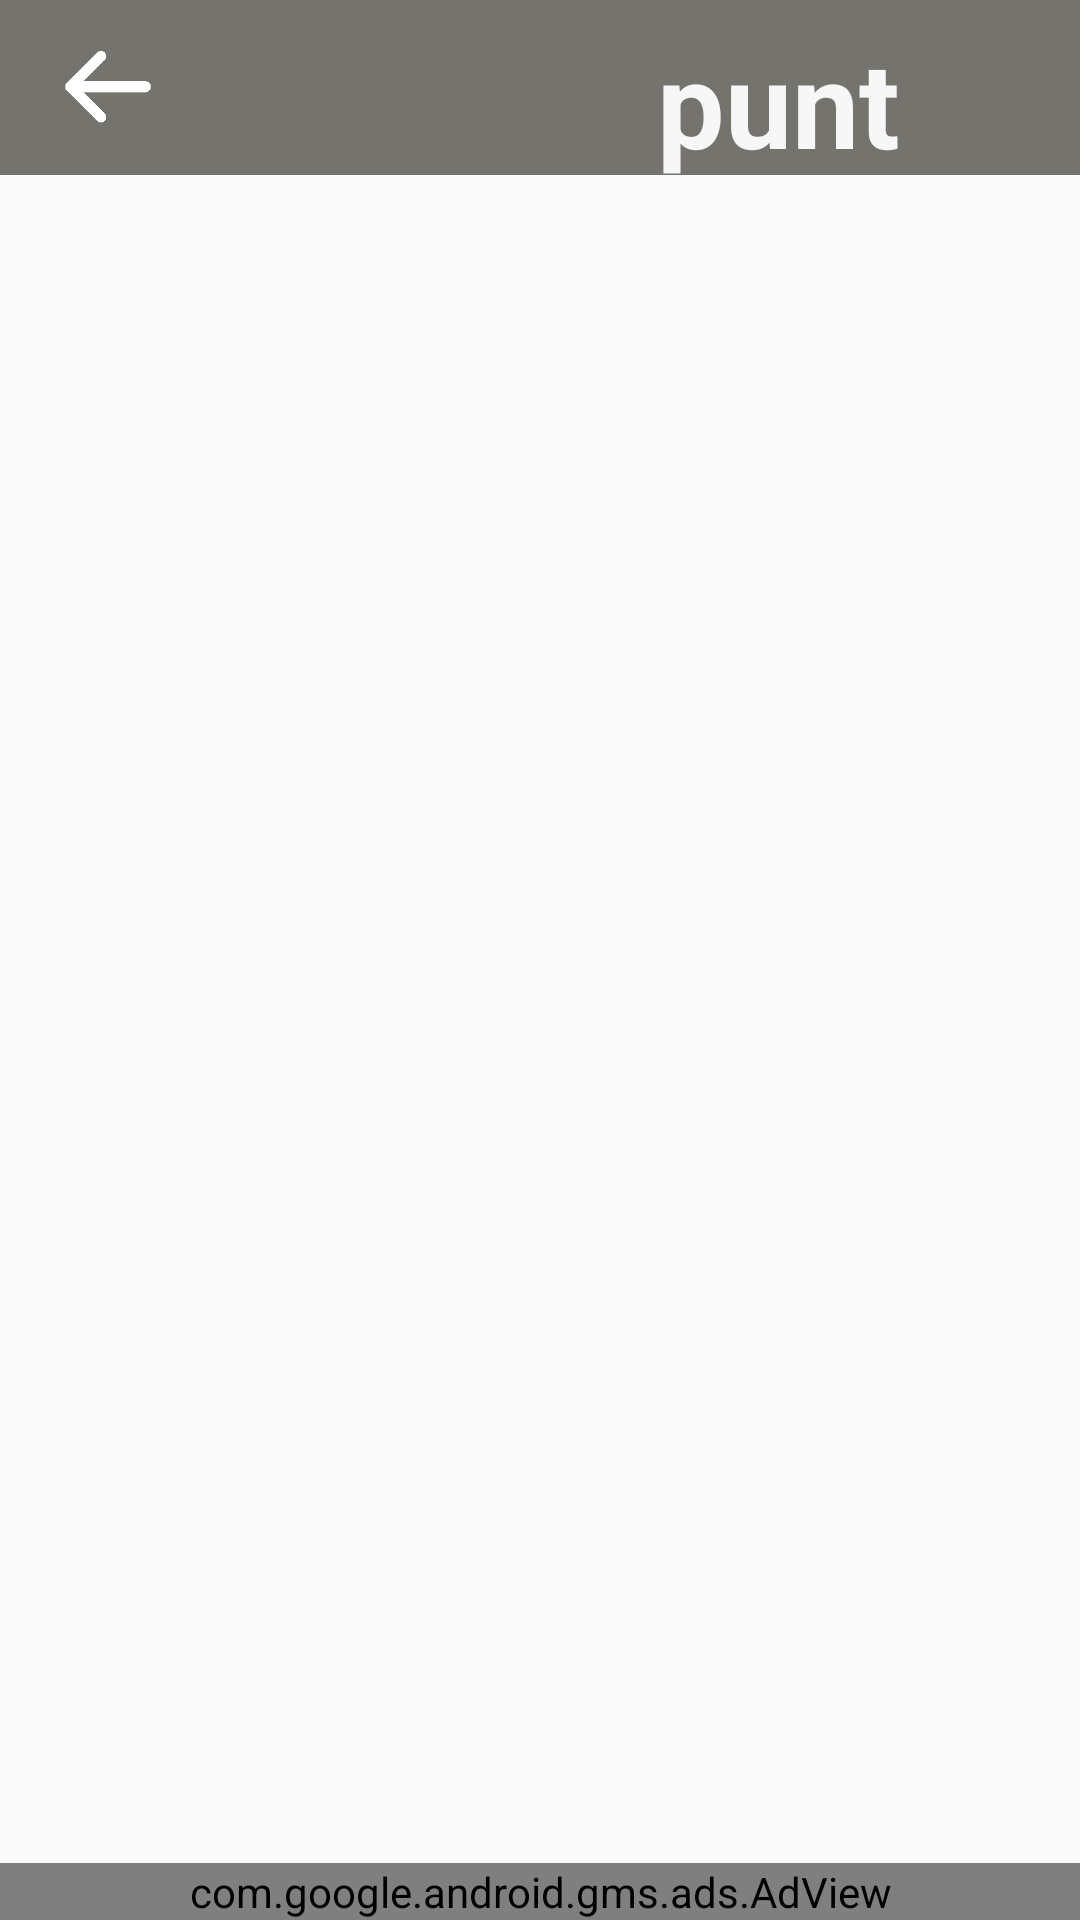

Icon click points for this 1080px x 1920px phone screenshot, format [x,y]:
atras: [108,87]
